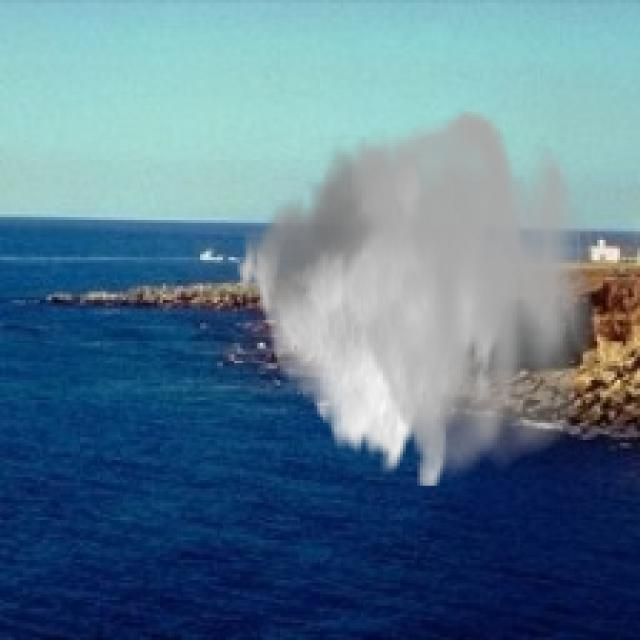smoke: (234, 103, 597, 486)
